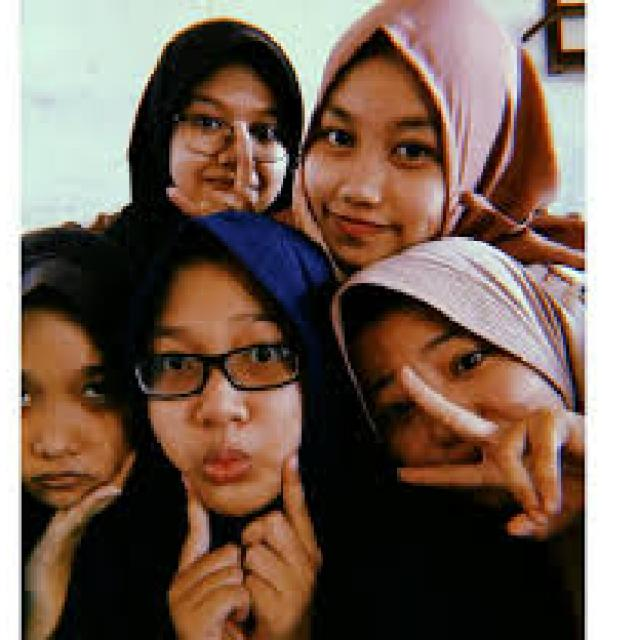Glasses: (129, 332, 308, 406), (169, 102, 302, 166)
